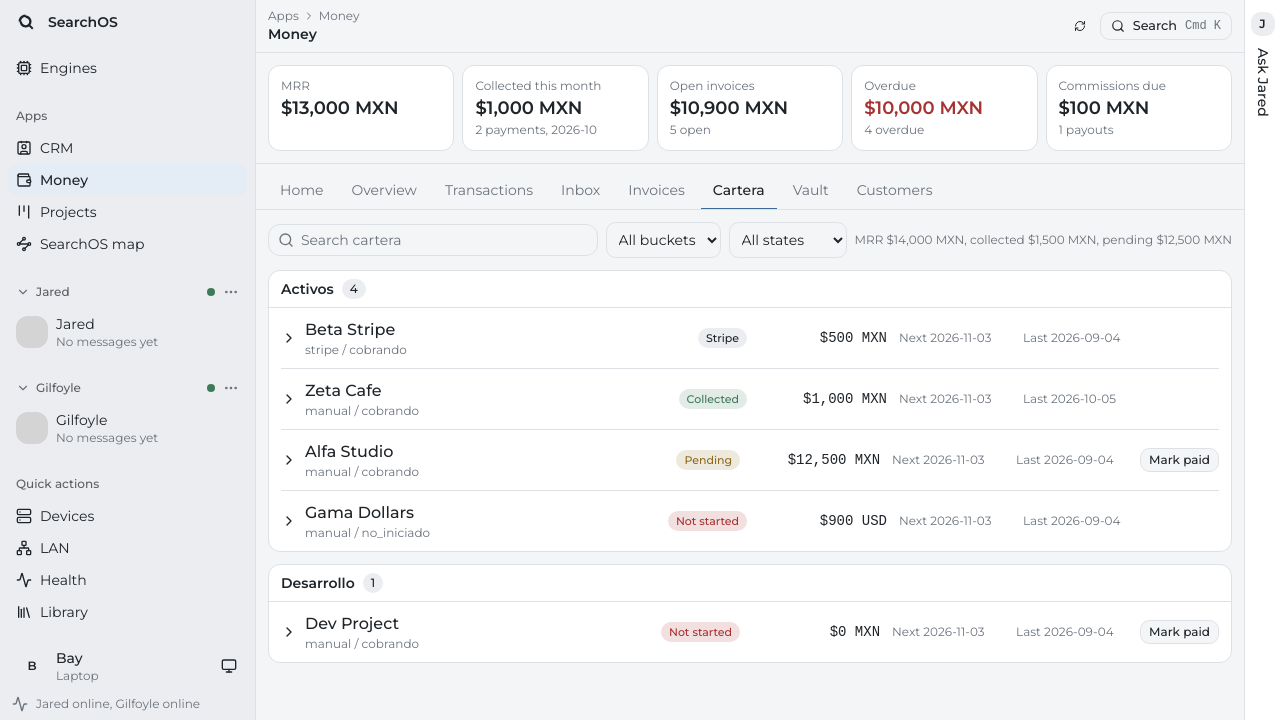
cartera tab › a 409 stays in the dialog with a plain message
Click the button "Mark paid" below "2026-10-05": (1180, 460) left=1140, top=448, right=1219, bottom=472
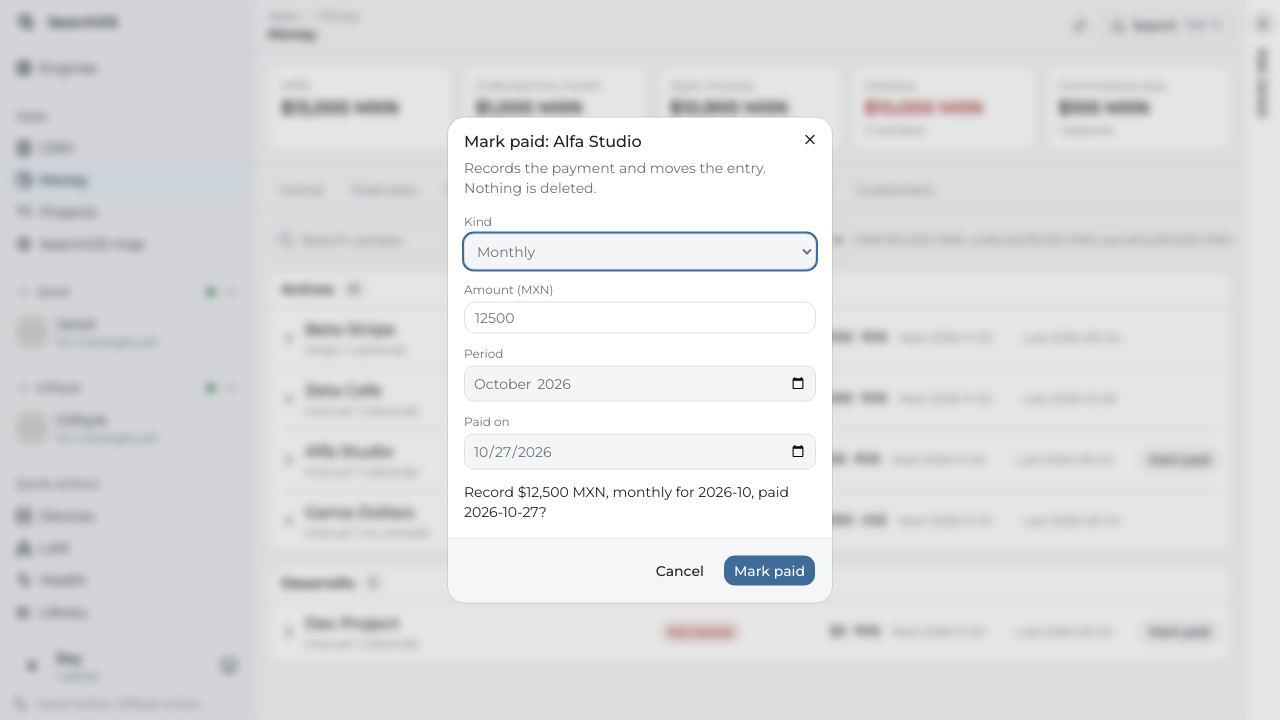
Click the button with test id "markpaid-confirm": (769, 570) left=723, top=554, right=816, bottom=586
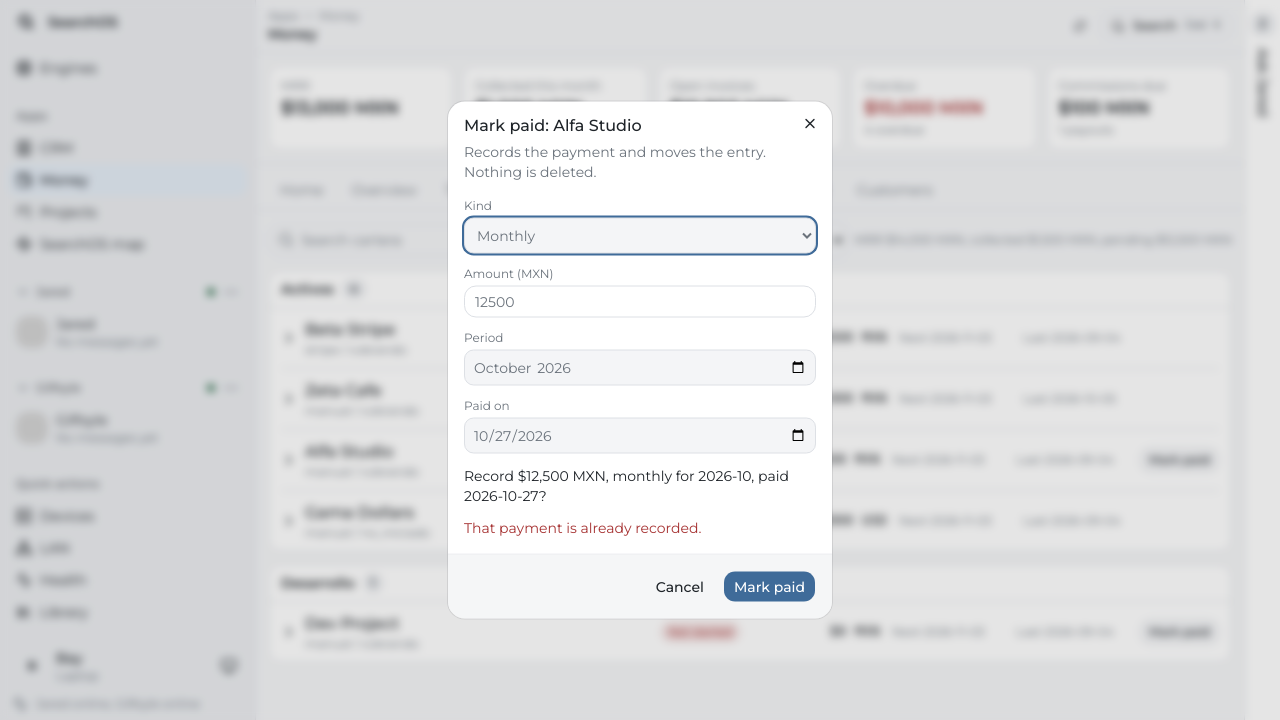
Expected: the dialog with test id "markpaid-dialog" is shown, left=448, top=102, right=832, bottom=618
Expected: the message with test id "markpaid-error" reads "That payment is already recorded.", left=464, top=518, right=702, bottom=536
